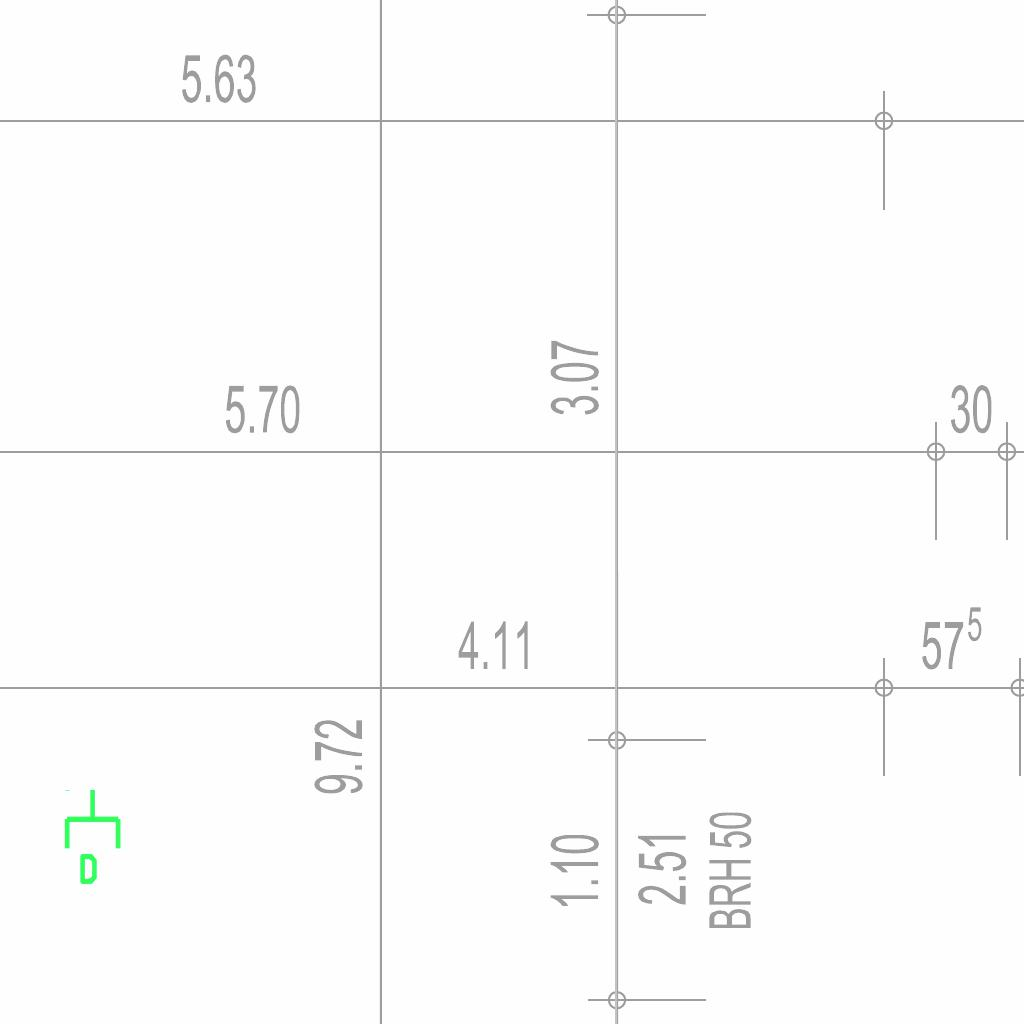Datenanschluss_einfach: (60, 787, 129, 887)
